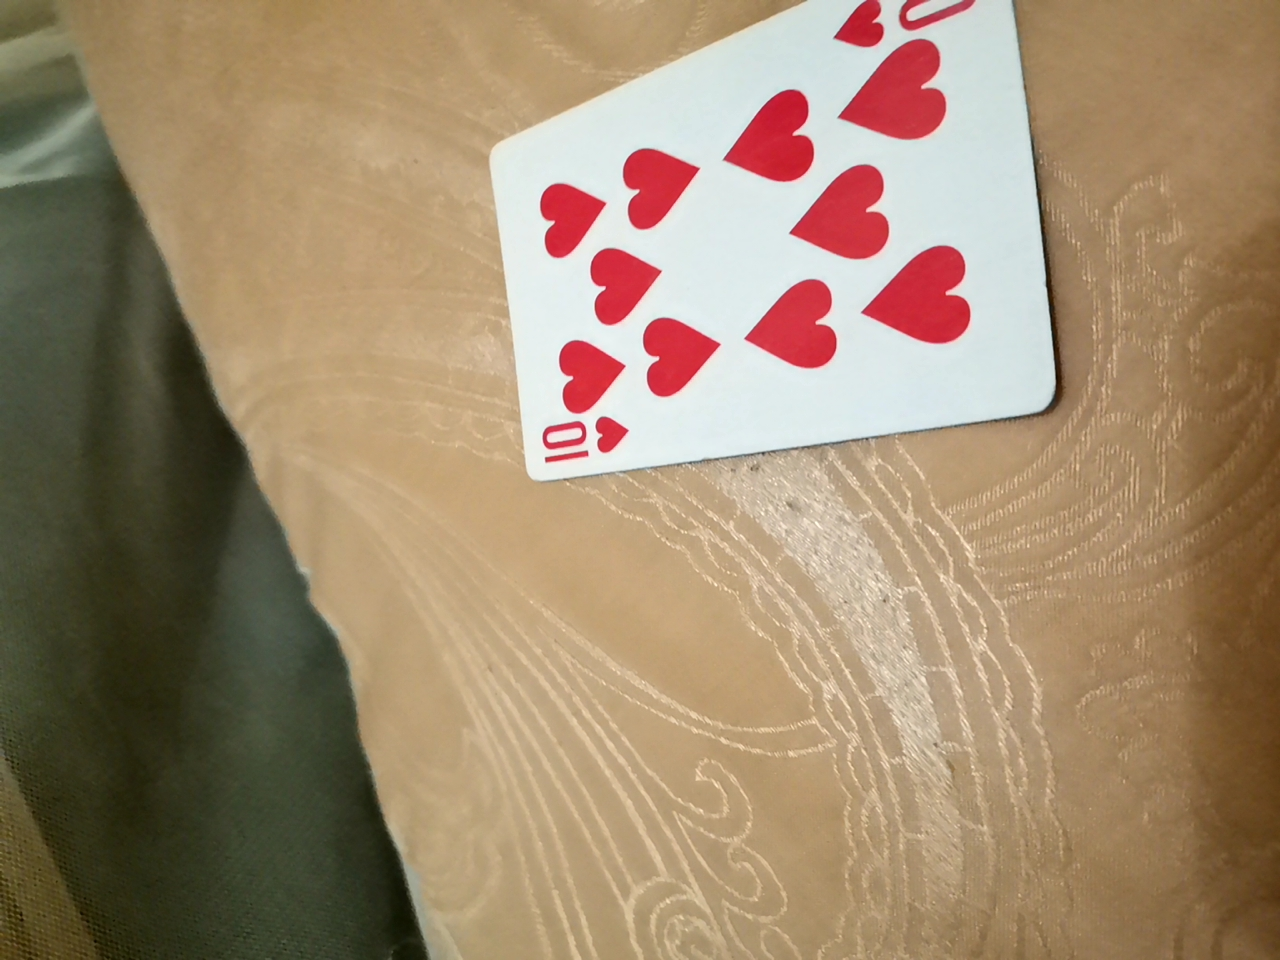hx 10: (494, 1, 1067, 475)
